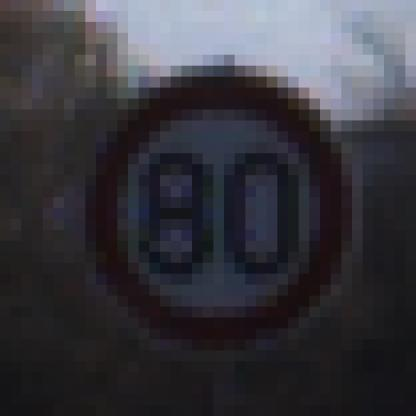Speed Limit 80: (104, 76, 354, 345)
